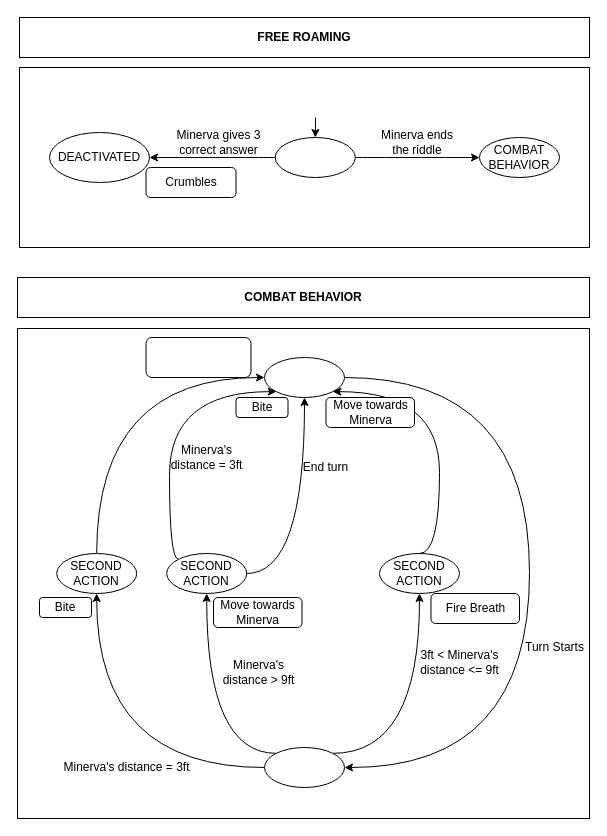
The diagram is 607 pixels wide and 836 high, and some of its shapes have lost their labels. The box of each missing label's shape, as (x1, y1, x2, y2) in pixels:
FIRST ACTION: (264, 746, 344, 788)
INACTIVE: (274, 136, 355, 178)
Retreat 3ft away from Minerva: (145, 336, 251, 378)
WAIT TURN: (264, 356, 344, 398)
